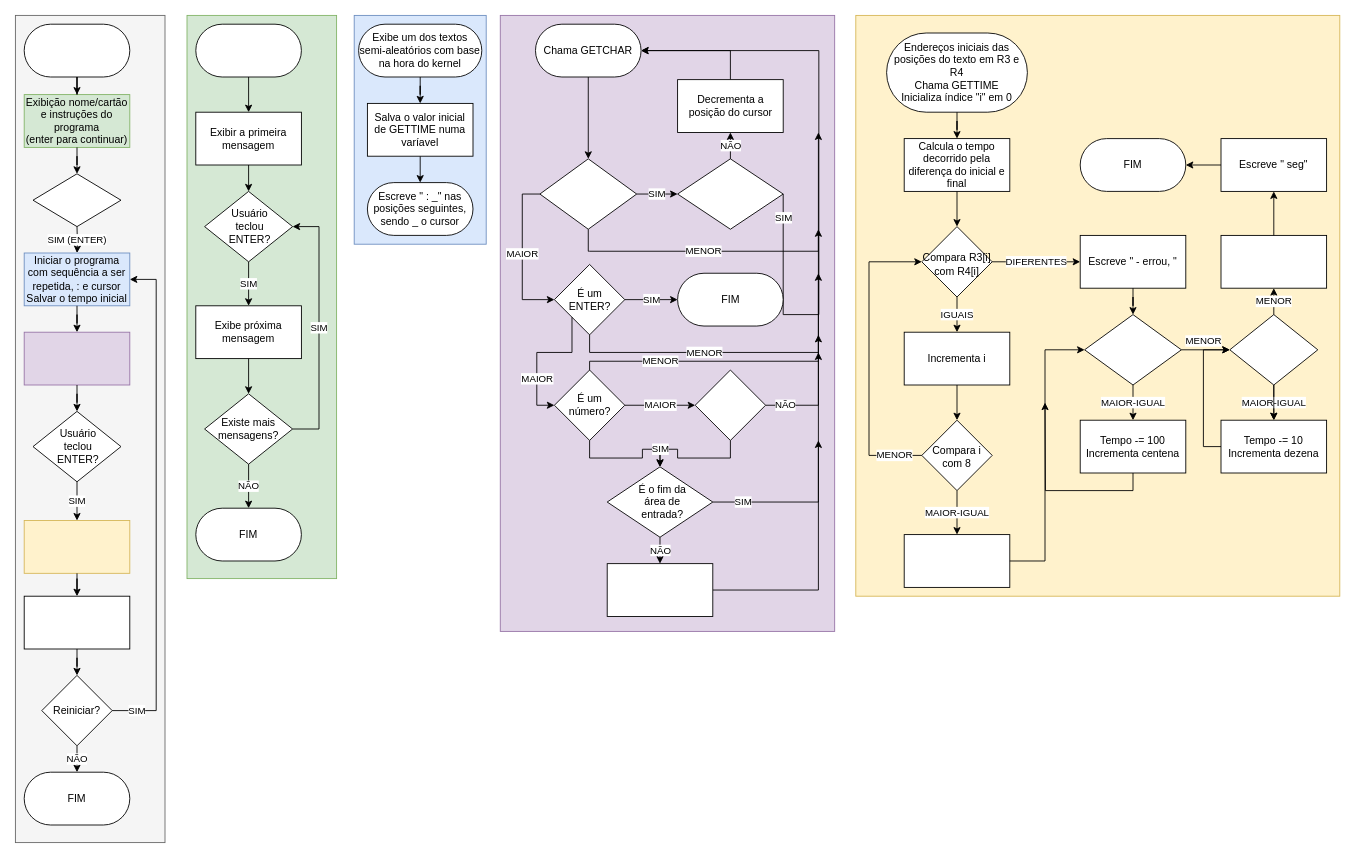
Some shapes in this 1355 by 858 pixel diagram are drawn without their labels. The shapes that lost their labels are listed below. From the top down, each one's box as (x1, y1, x2, y2) in pixels, then its label:
(23, 23, 130, 77): INÍCIO
(195, 23, 301, 77): Inicializar as mensagens terminadas em 0 na memória
(32, 173, 121, 227): Pronto para começar?
(539, 158, 637, 229): É um BACKSPACE?
(677, 158, 783, 229): É o início da área de entrada?
(1220, 235, 1327, 288): Coloca o valor restante de tempo nas unidades
(23, 331, 130, 385): Processar e filtrar teclas de entrada Tratar BACKSPACE
(1084, 314, 1181, 385): Compara o tempo com 100
(1229, 314, 1318, 385): Compara o tempo com 10
(694, 369, 766, 440): É uma letra?
(23, 520, 130, 573): Gera correção do texto digitado e o tempo decorrido sem zeros insignificantes
(903, 534, 1010, 587): Escreve " - certo, "
(606, 563, 713, 616): Escreve na posição atual do cursor e incrementa-o
(23, 595, 130, 649): Exibir mensagem de repetição do programa
